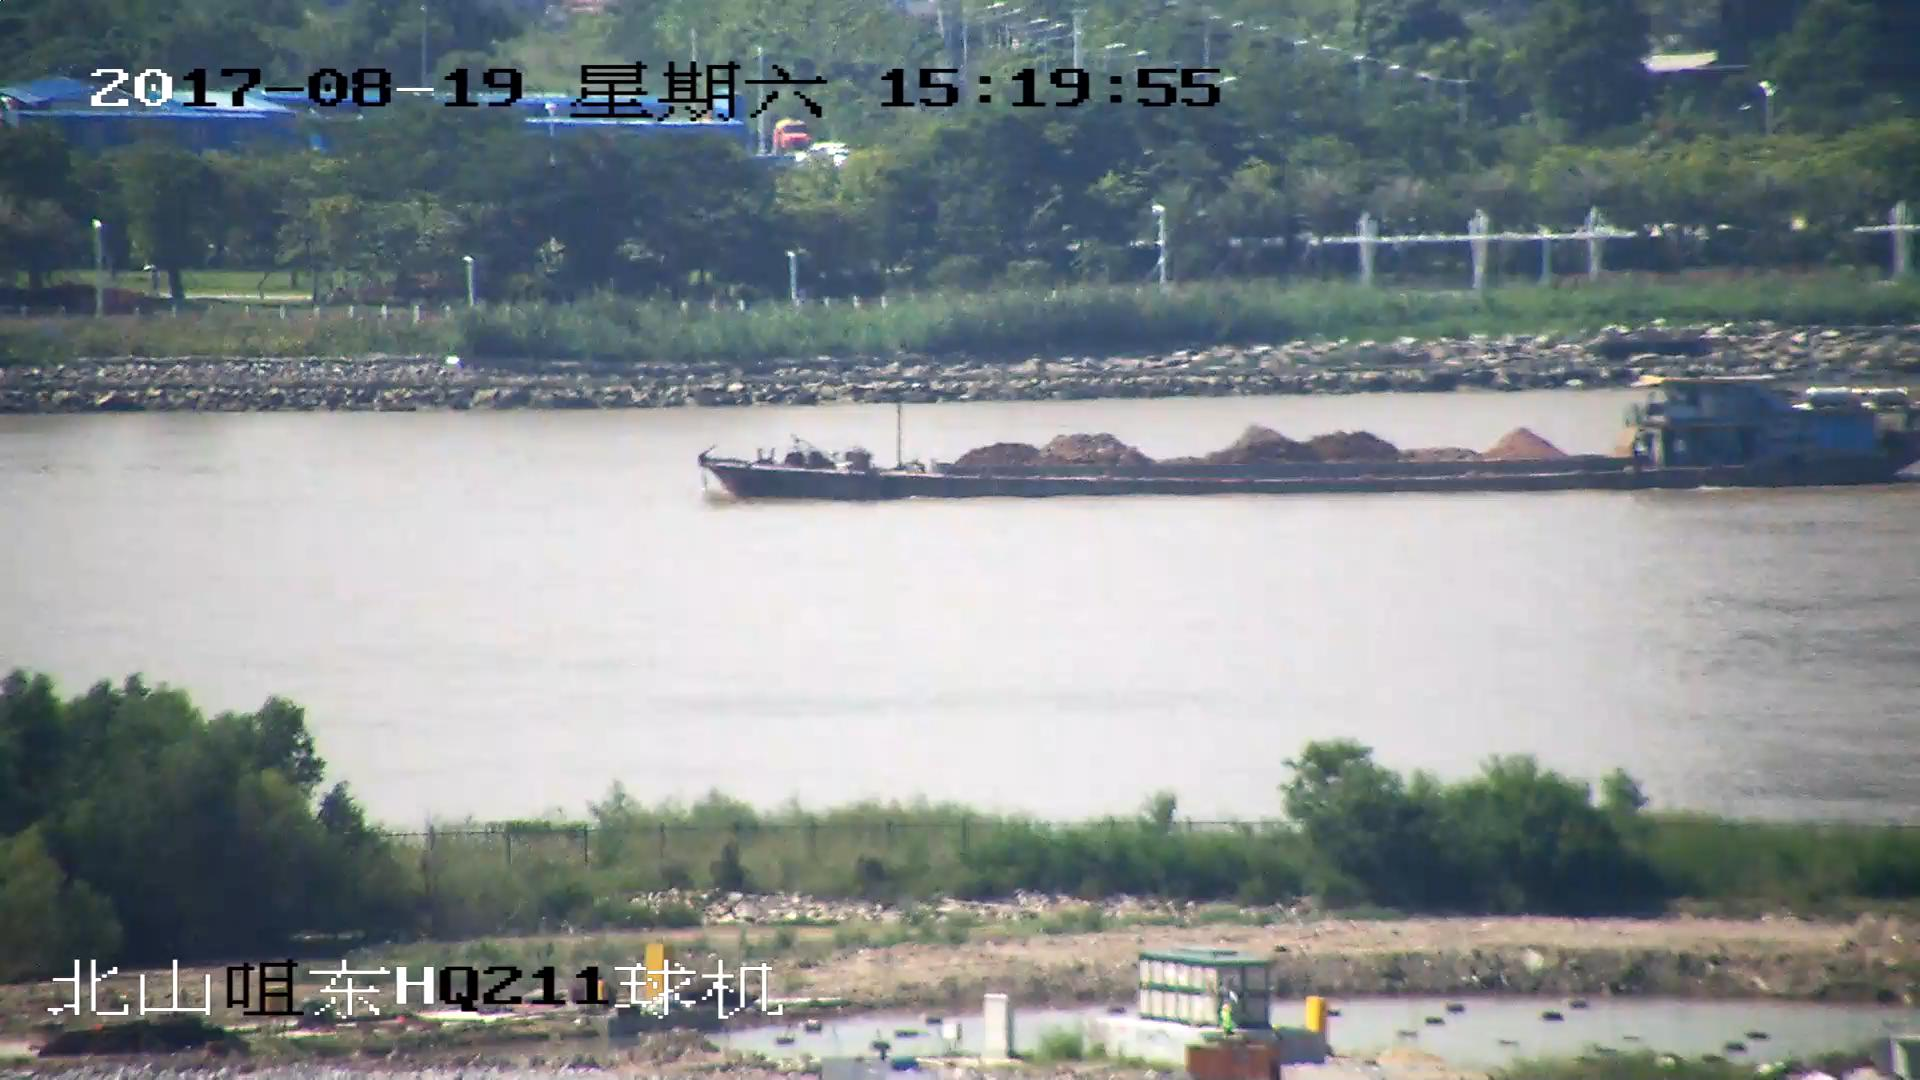ore carrier: (700, 378, 1920, 501)
